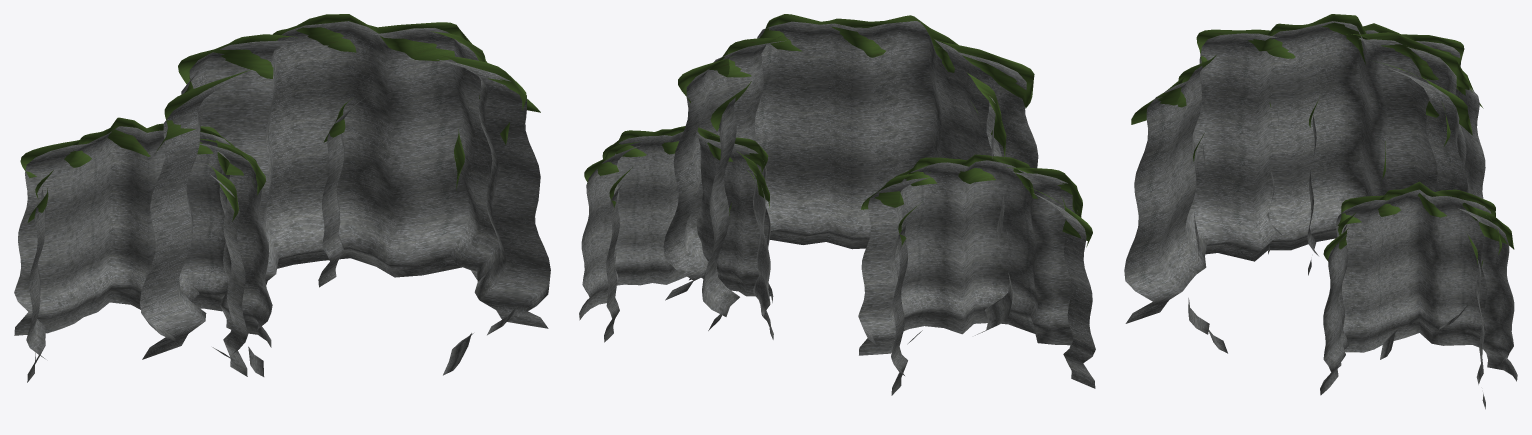
The model's file is karst-island-02.glb.
3 renders of one model, left to right at view 1: azimuth 30°, elevation 25°; view 2: azimuth 150°, elevation 25°; view 3: azimuth 270°, elevation 25°, orthographic. The views are drawn at different scales.
Parts seen in each view (by area): view 1: Cliff_LOD0, Canopy_LOD0; view 2: Cliff_LOD0, Canopy_LOD0; view 3: Cliff_LOD0, Canopy_LOD0.
Part boxes in pixels (x1=…): Cliff_LOD0: x1=14, y1=21, x2=550, y2=382; Canopy_LOD0: x1=20, y1=14, x2=540, y2=222; Cliff_LOD0: x1=579, y1=21, x2=1095, y2=395; Canopy_LOD0: x1=584, y1=14, x2=1092, y2=247; Cliff_LOD0: x1=1124, y1=21, x2=1517, y2=409; Canopy_LOD0: x1=1131, y1=14, x2=1514, y2=266.
Size of what is drawn, in the model's own units: 359 by 189 by 258.
Materials: 2 (2 with a texture image).
